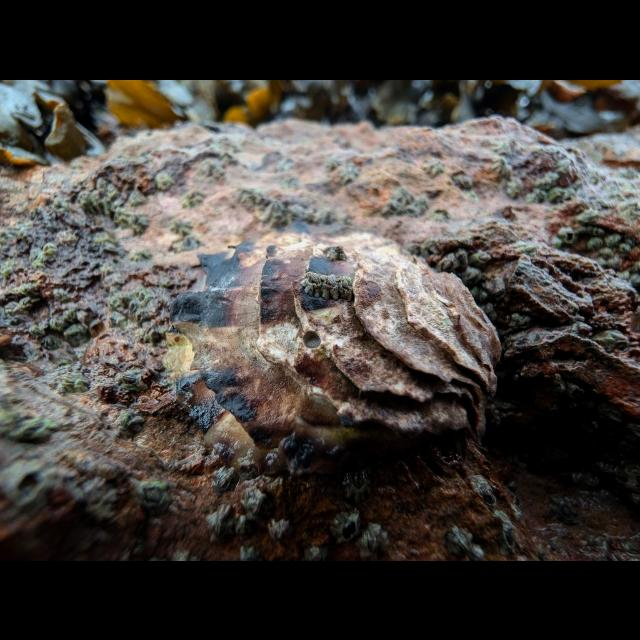Oyster-Open: (160, 223, 502, 474)
